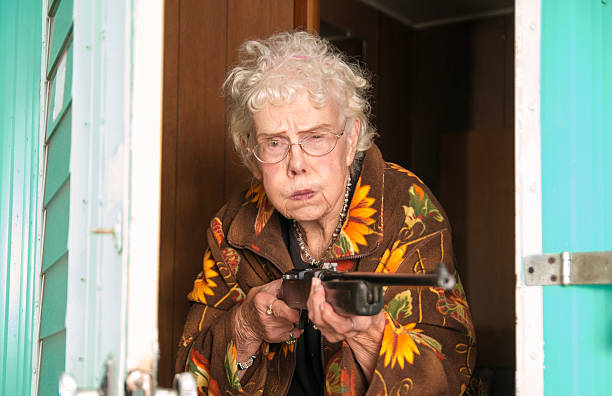gun: (277, 262, 456, 326)
